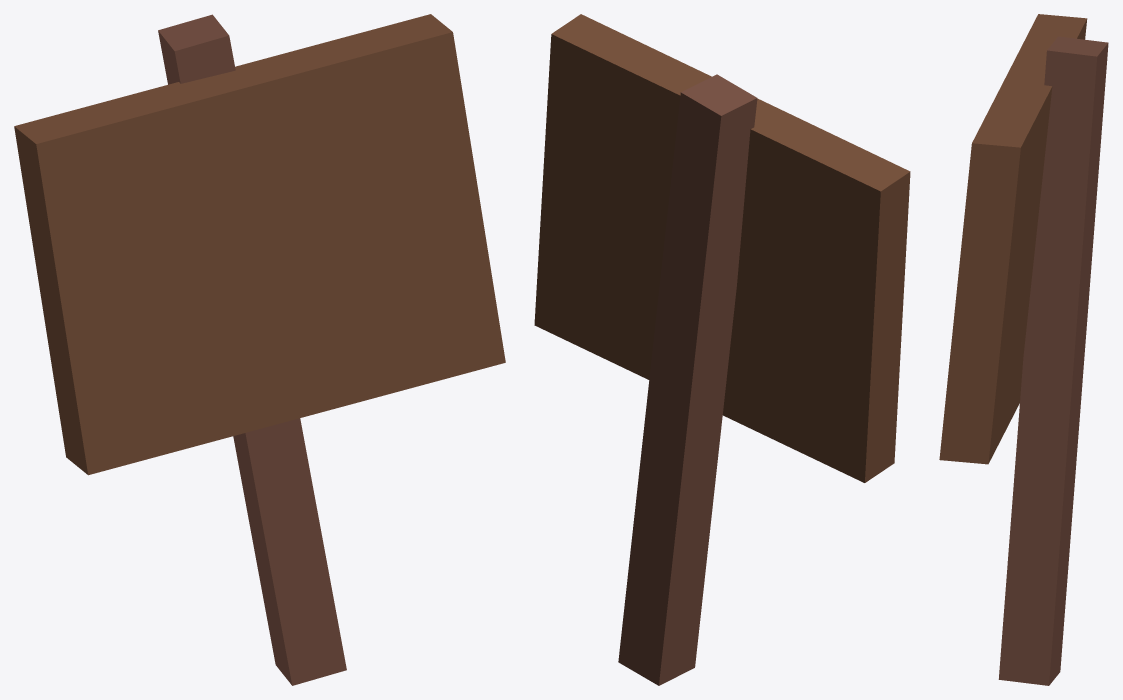
Rendered from SignNew.fbx.
The picture shows the model from 3 angles, left to right: view 1: azimuth 30°, elevation 25°; view 2: azimuth 150°, elevation 25°; view 3: azimuth 270°, elevation 25°; orthographic projection. The views are drawn at different scales.
Parts seen in each view (by area): view 1: Signp, Ploe; view 2: Signp, Ploe; view 3: Ploe, Signp.
Boxes of the visible parts, x1,y1,x2,y2 form: Signp: (14,14,505,475); Ploe: (158,14,346,685); Signp: (534,14,910,482); Ploe: (618,74,757,685); Ploe: (998,36,1108,685); Signp: (939,14,1087,464).
Bounding box in the file's own units: 245 × 361 × 92.6.
